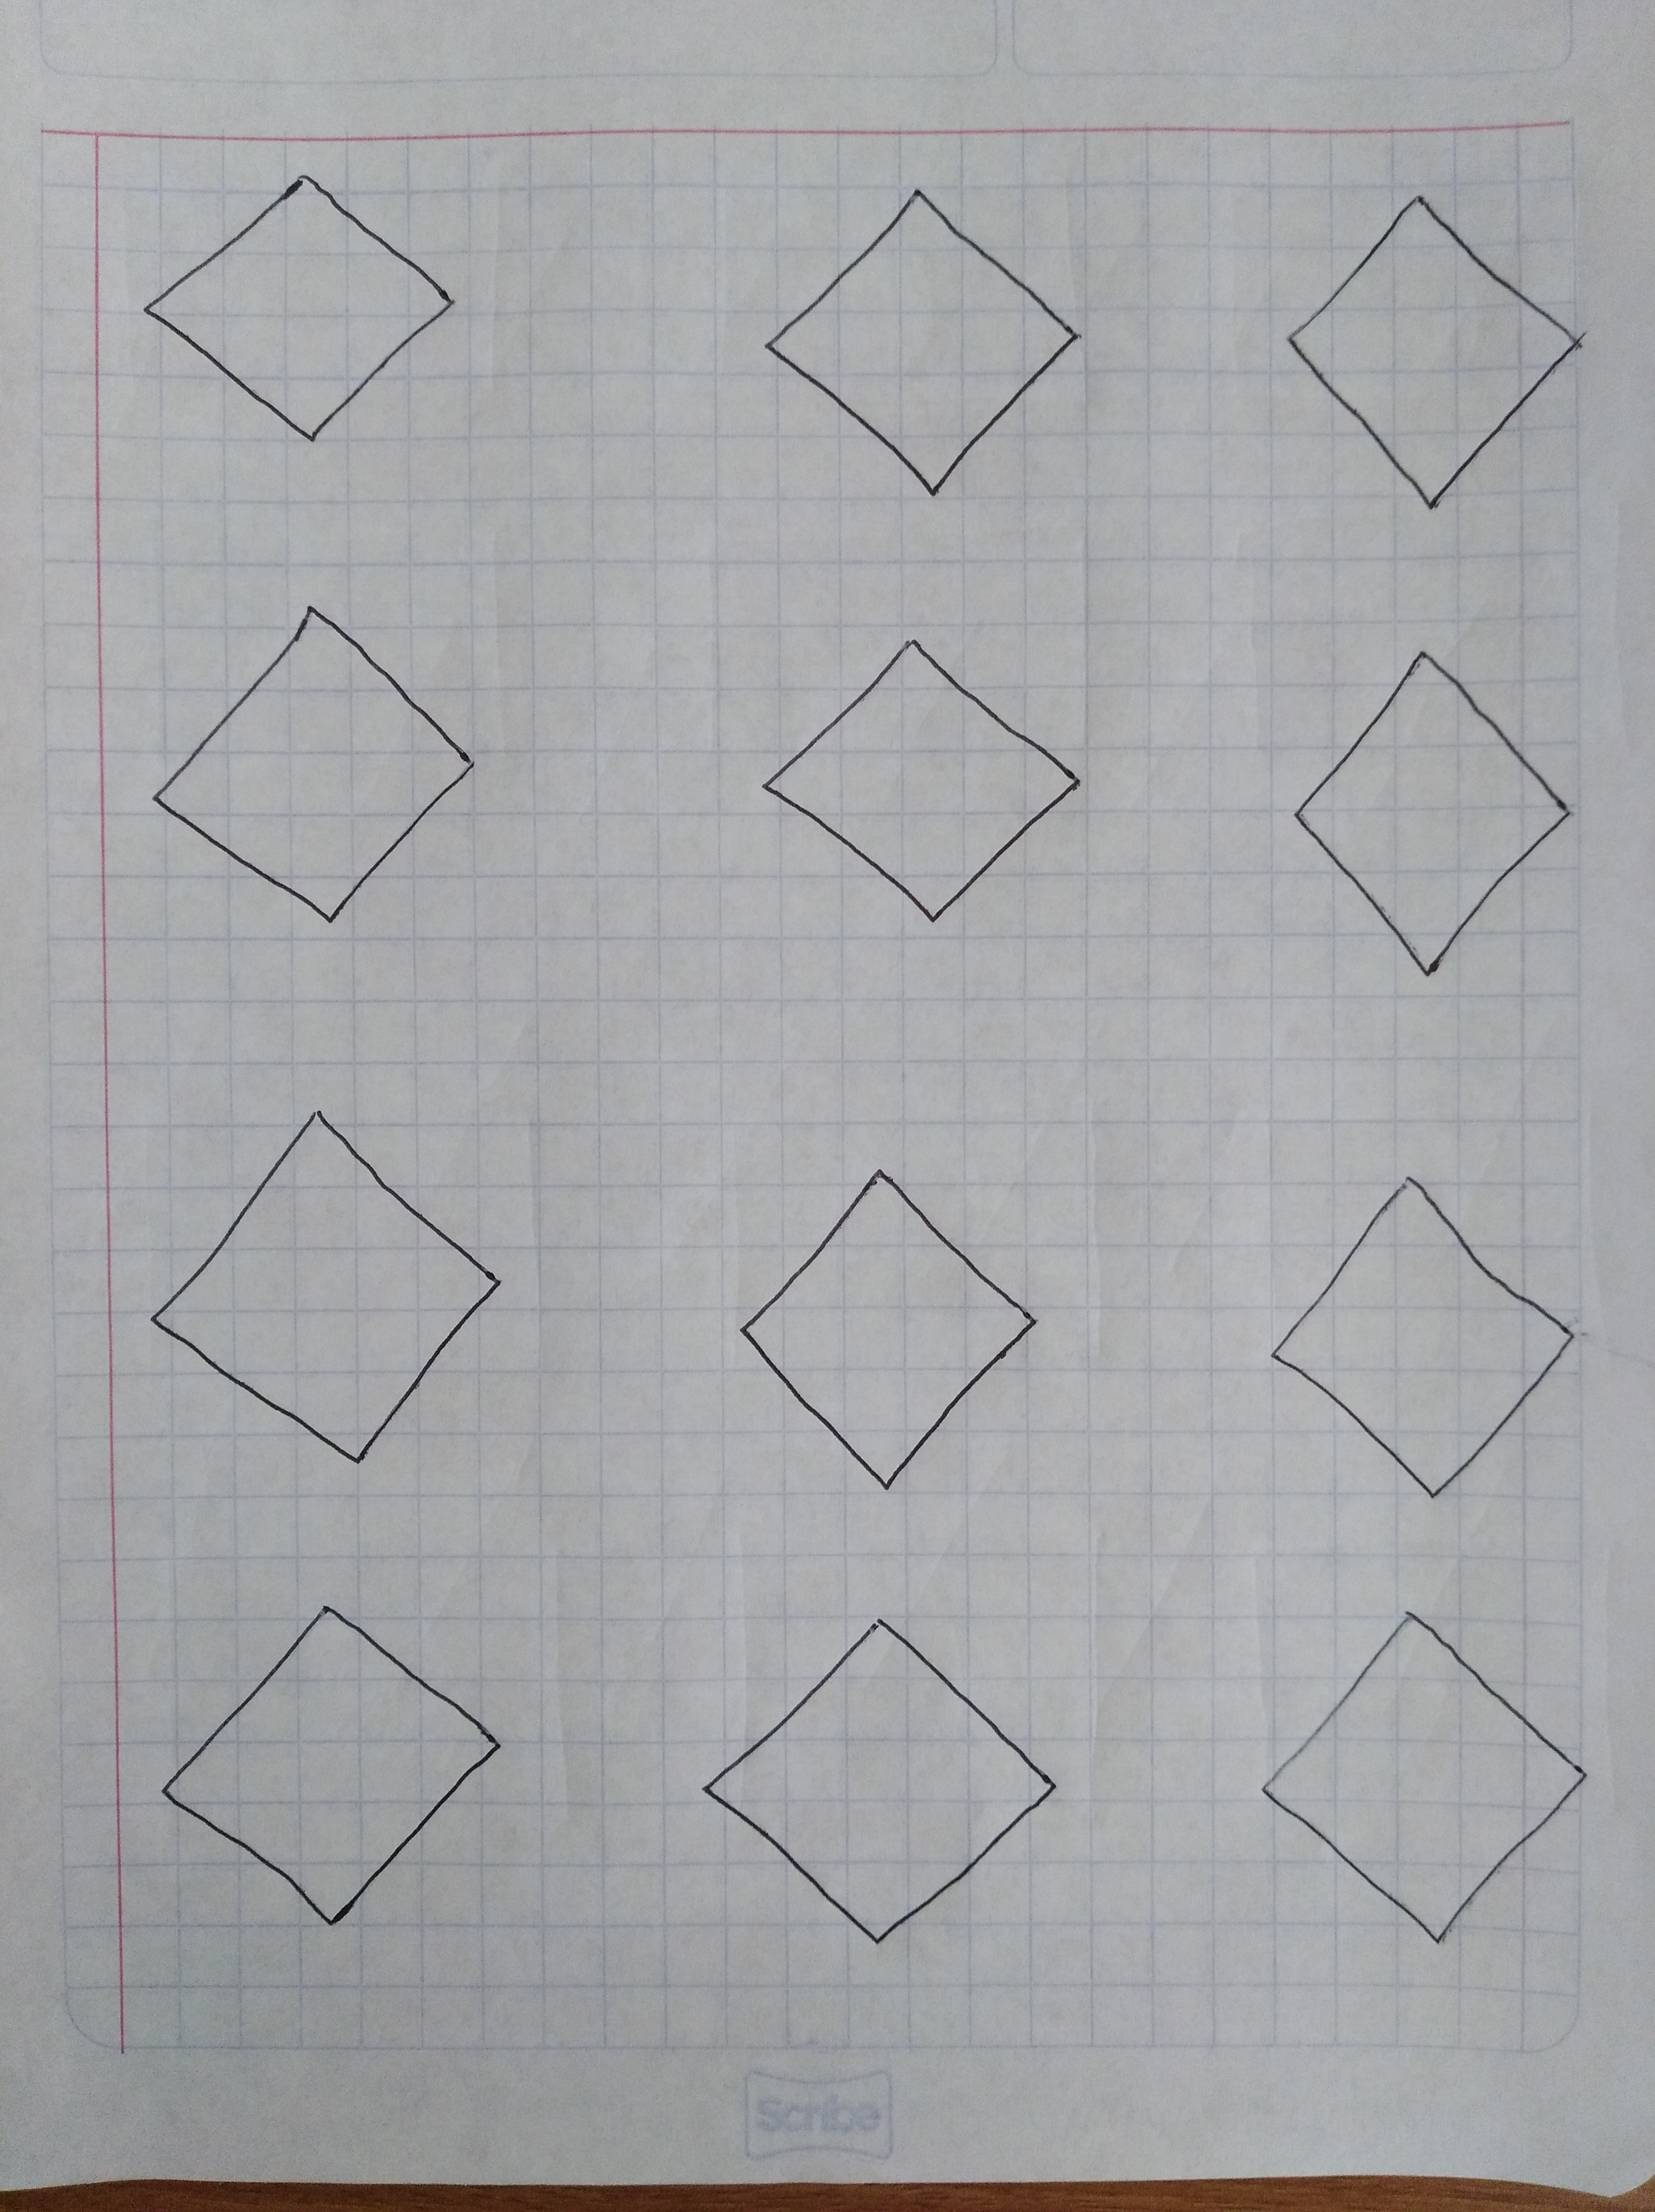decision: (111, 1089, 582, 1491), (662, 1586, 1109, 1970), (111, 560, 532, 956), (120, 1576, 555, 1955), (1226, 1586, 1605, 1981), (692, 1135, 1078, 1519), (742, 151, 1121, 533), (1246, 1140, 1598, 1520), (1260, 622, 1601, 1001), (1271, 162, 1601, 540), (734, 608, 1102, 942), (118, 142, 490, 467)
